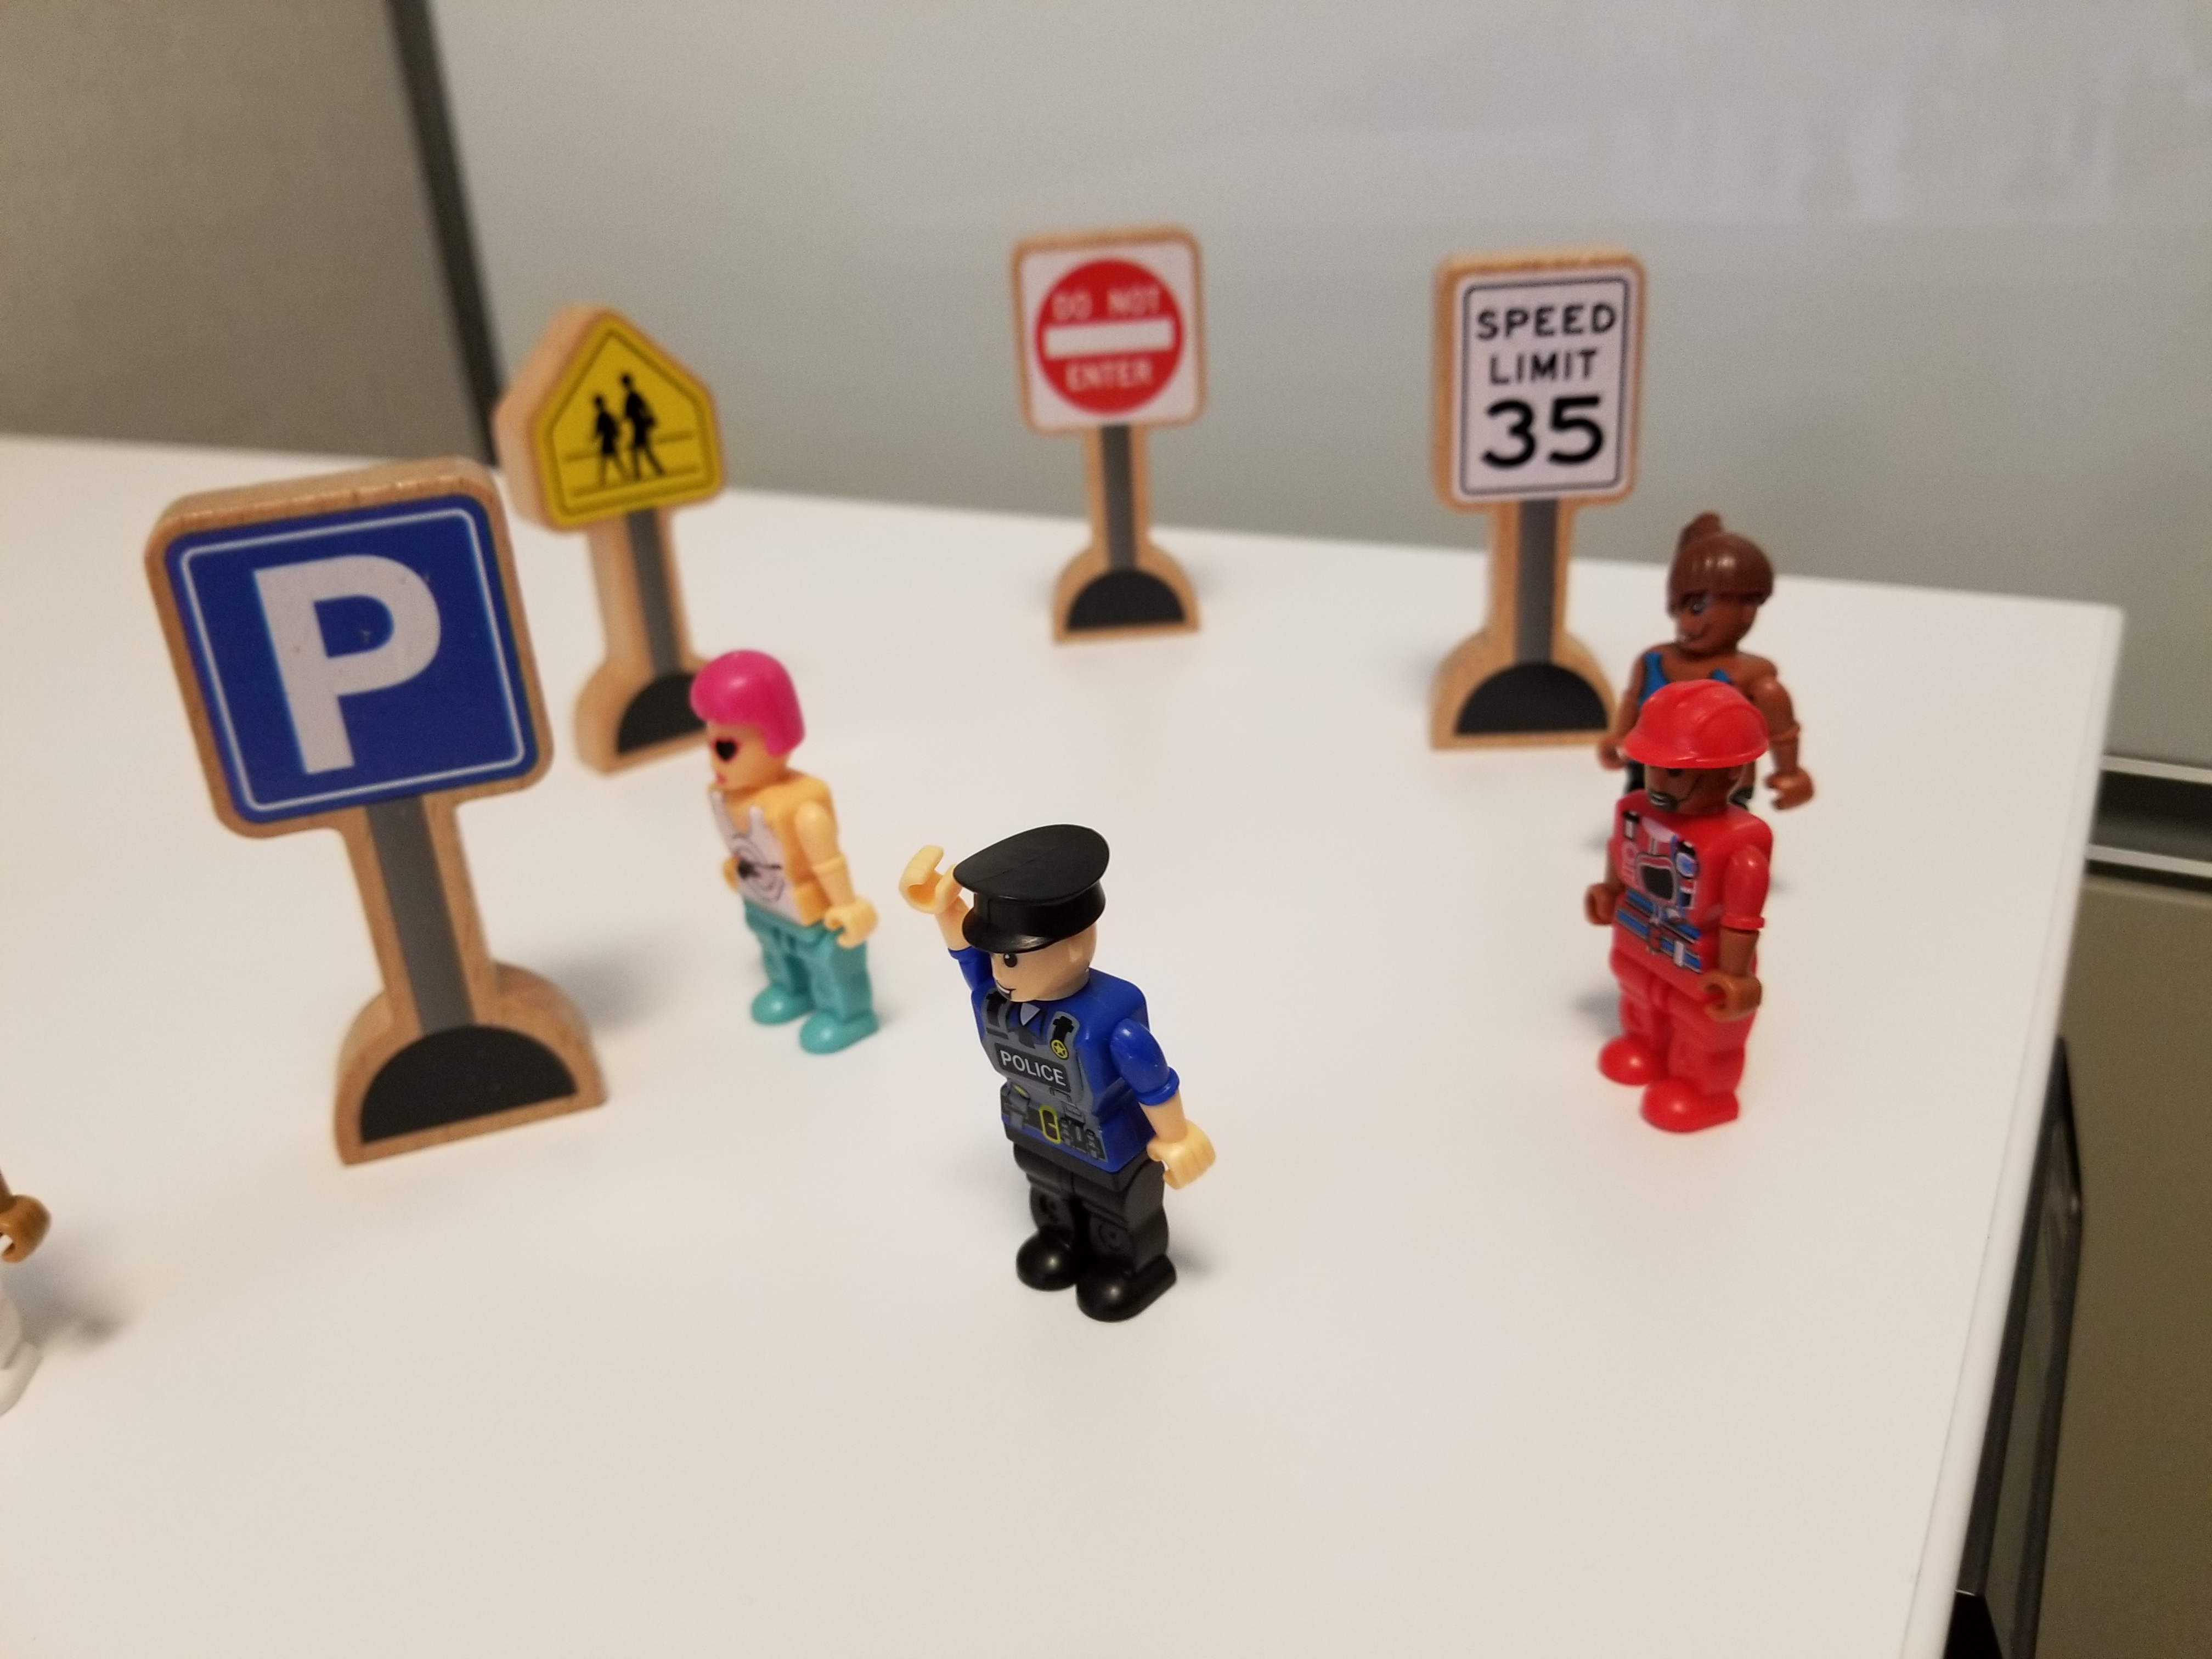Do not enter: (997, 218, 1243, 673)
Parking: (100, 447, 635, 1160)
Pedestrian crossing: (486, 267, 760, 556)
Speed limit 35: (1410, 192, 1658, 539)
person: (888, 806, 1210, 1359), (1588, 673, 1801, 1158), (662, 631, 883, 1096), (1632, 508, 1792, 688)
